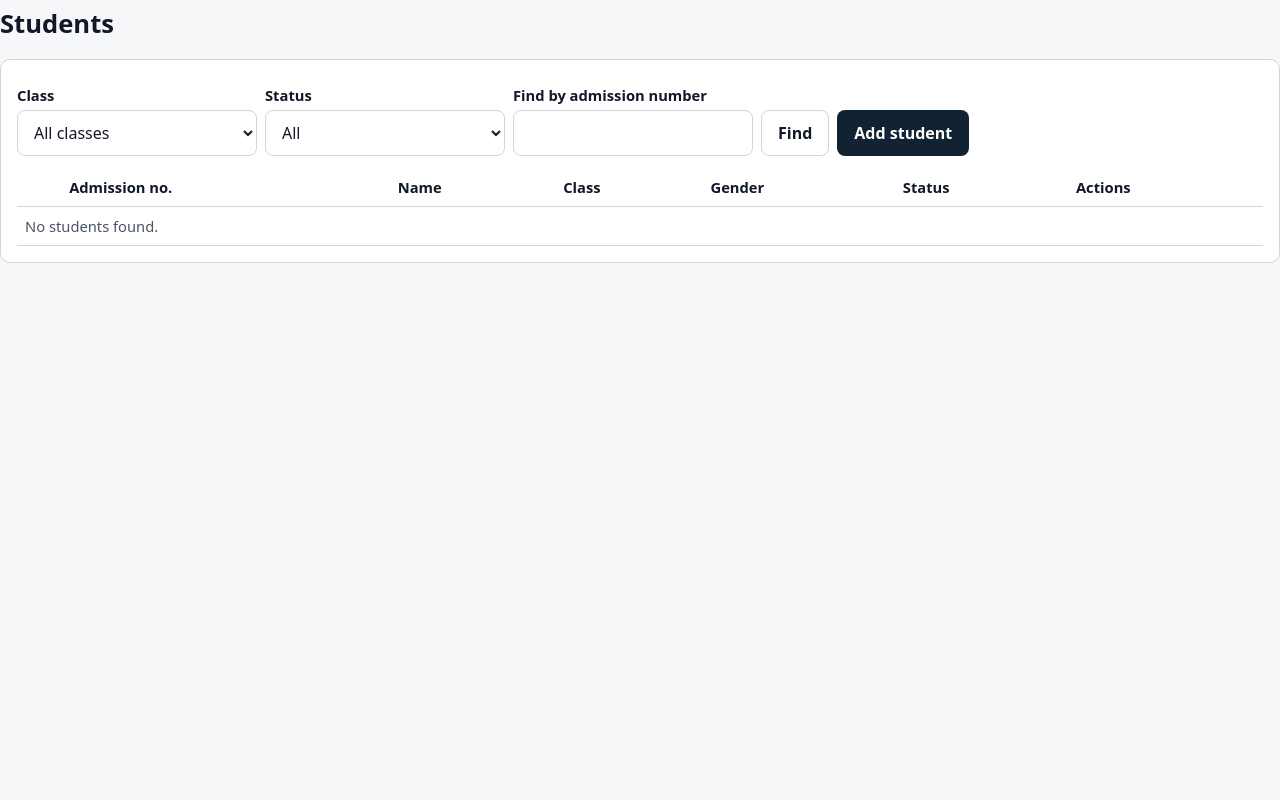
Students › shows field errors and writes nothing for an empty form
Click the button "Add student": x=903, y=133 [837,110,969,156]
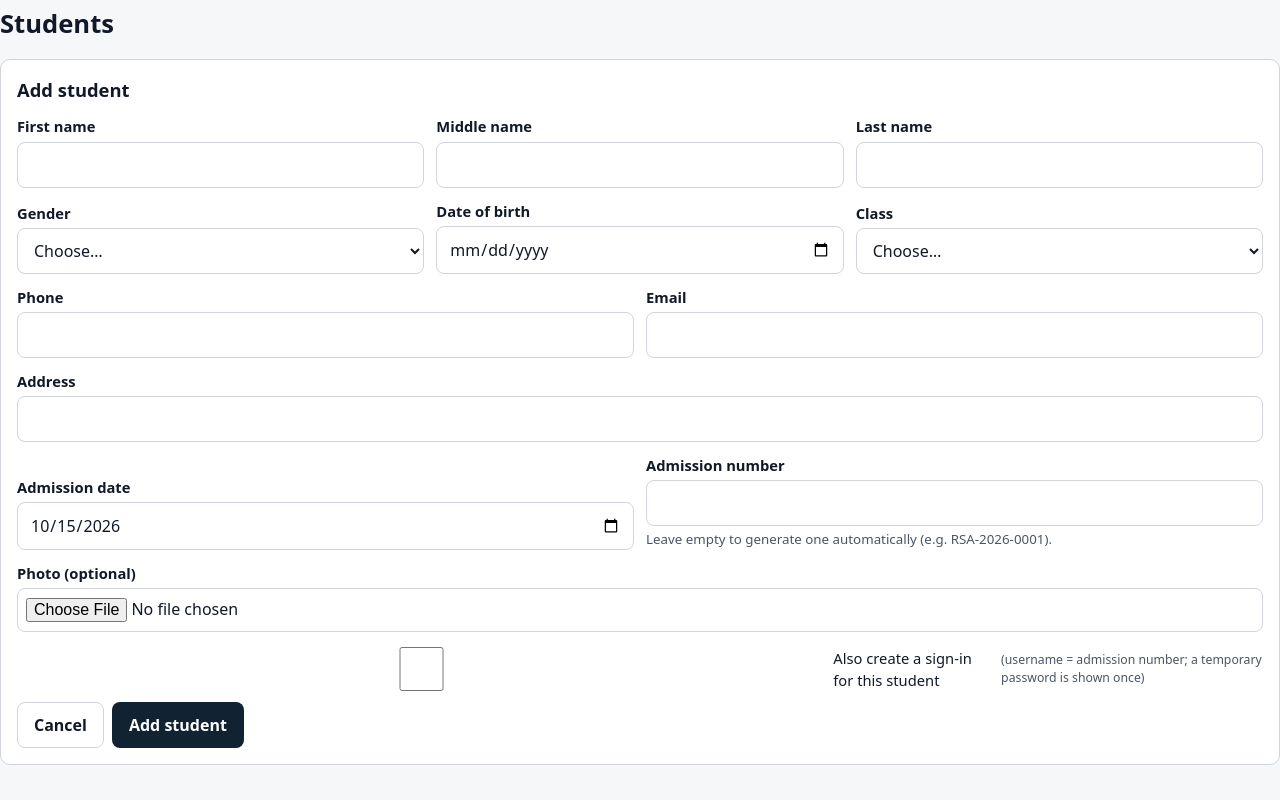
Click the button "Add student": x=178, y=725 [112,702,244,748]
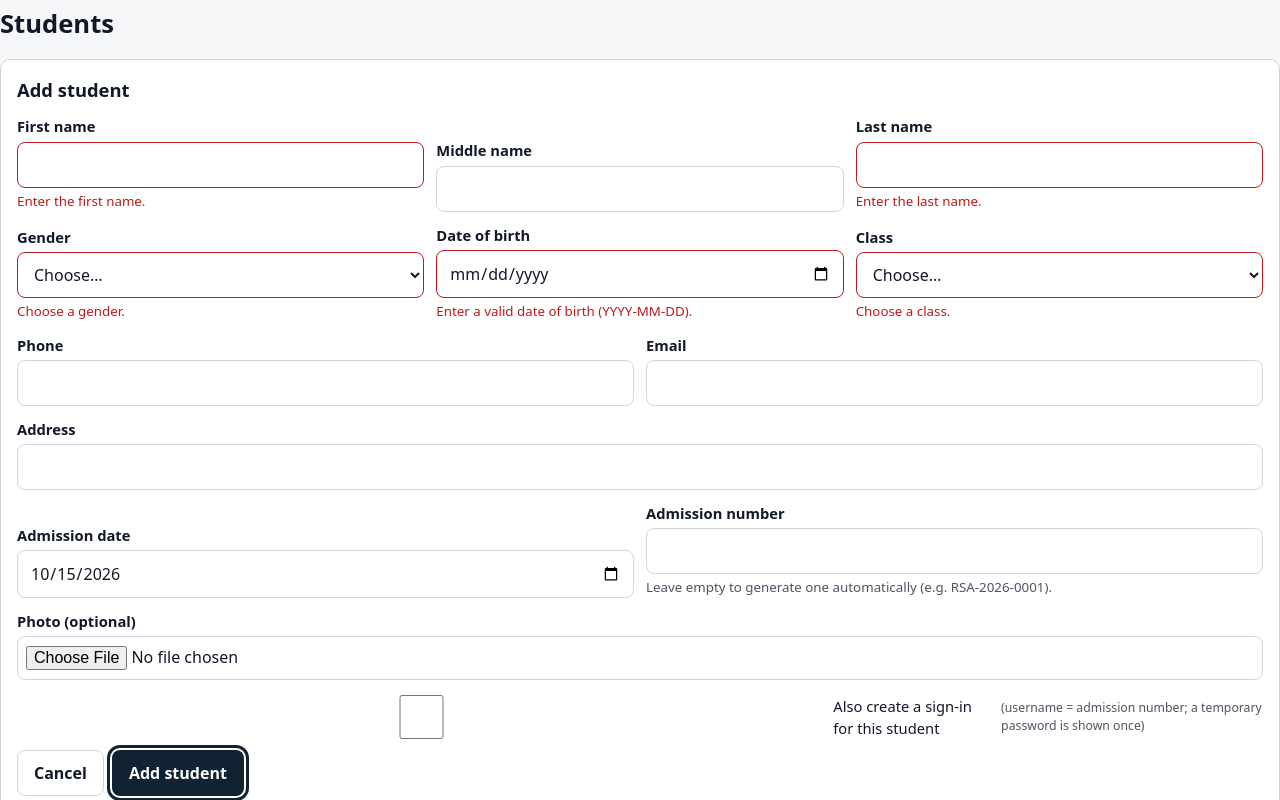
Expected: the text "Enter the first name." is shown, [17,192,145,210]
Expected: the text "Choose a class." is shown, [856,302,950,320]
